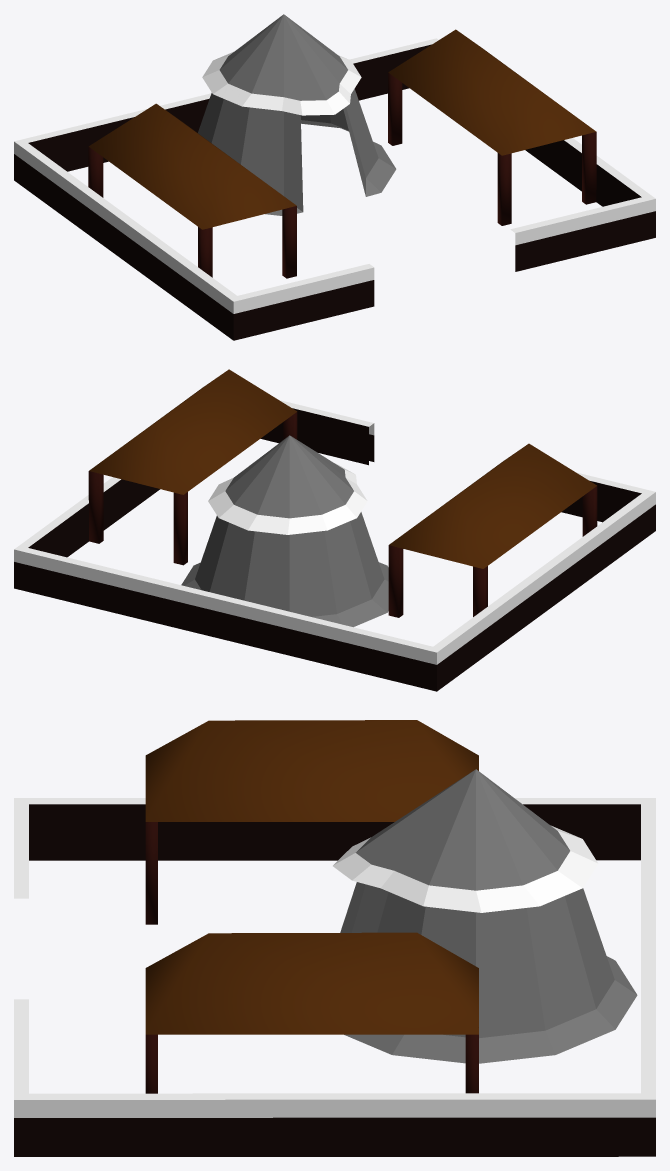
File: healing_camp.obj
3 views of the same model, one above another, from view 1: azimuth 30°, elevation 25°; view 2: azimuth 150°, elevation 25°; view 3: azimuth 270°, elevation 25° (orthographic). The views are drawn at different scales.
Visible parts, largest first — view 1: Cube_Cube.004; view 2: Cube_Cube.004; view 3: Cube_Cube.004.
Part boxes in pixels (x1,y1,x2,y2): Cube_Cube.004: [14, 14, 655, 340]; Cube_Cube.004: [14, 369, 655, 691]; Cube_Cube.004: [14, 720, 655, 1156].
Size of the model in its own units: 11.28 by 4.09 by 10.13.
